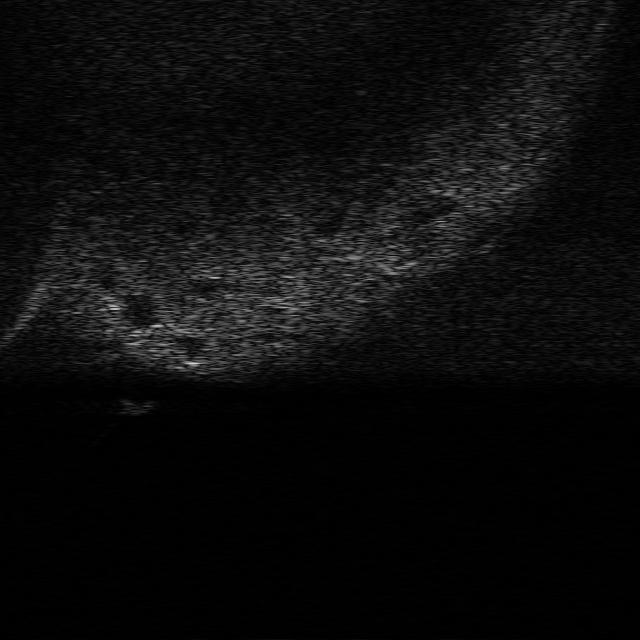cube: (119, 398, 159, 416)
